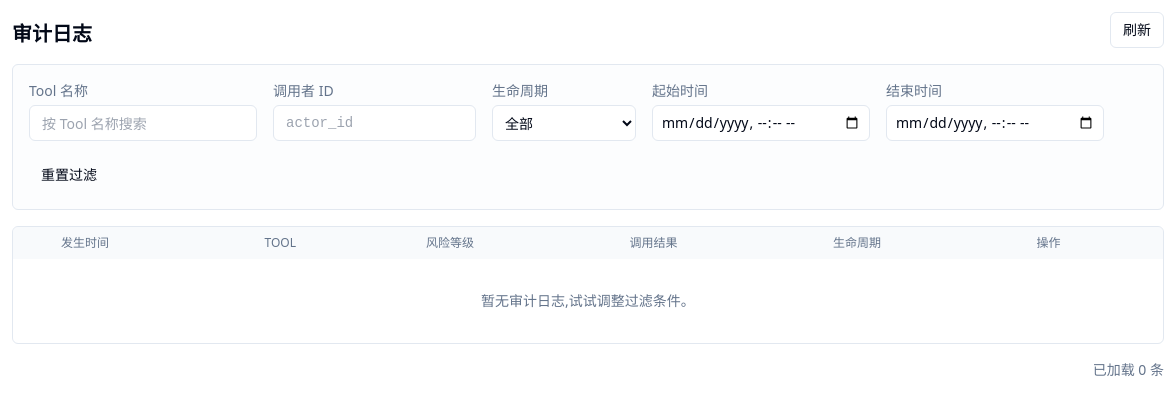
Test: AuditLogsTable › sends the lifecycle filter to the API as ?lifecycle_status=
Expected: the cell with test id "empty-state" is shown, [13,259,1163,343]
Select "archived (冷存)" in the dropdown labelled "生命周期" at point(564, 123), box [492,105,636,141]
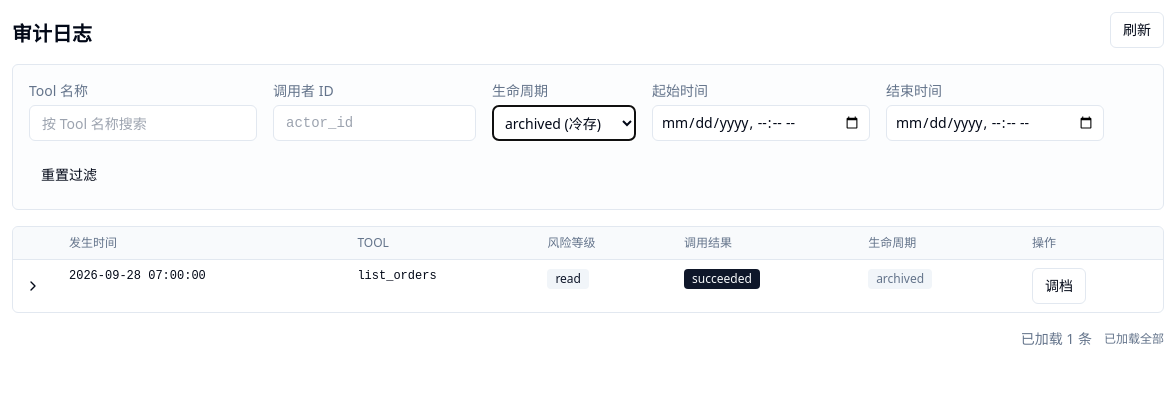
Expected: the row with test id "audit-log-row-arc-1" is shown, [13,260,1163,312]
